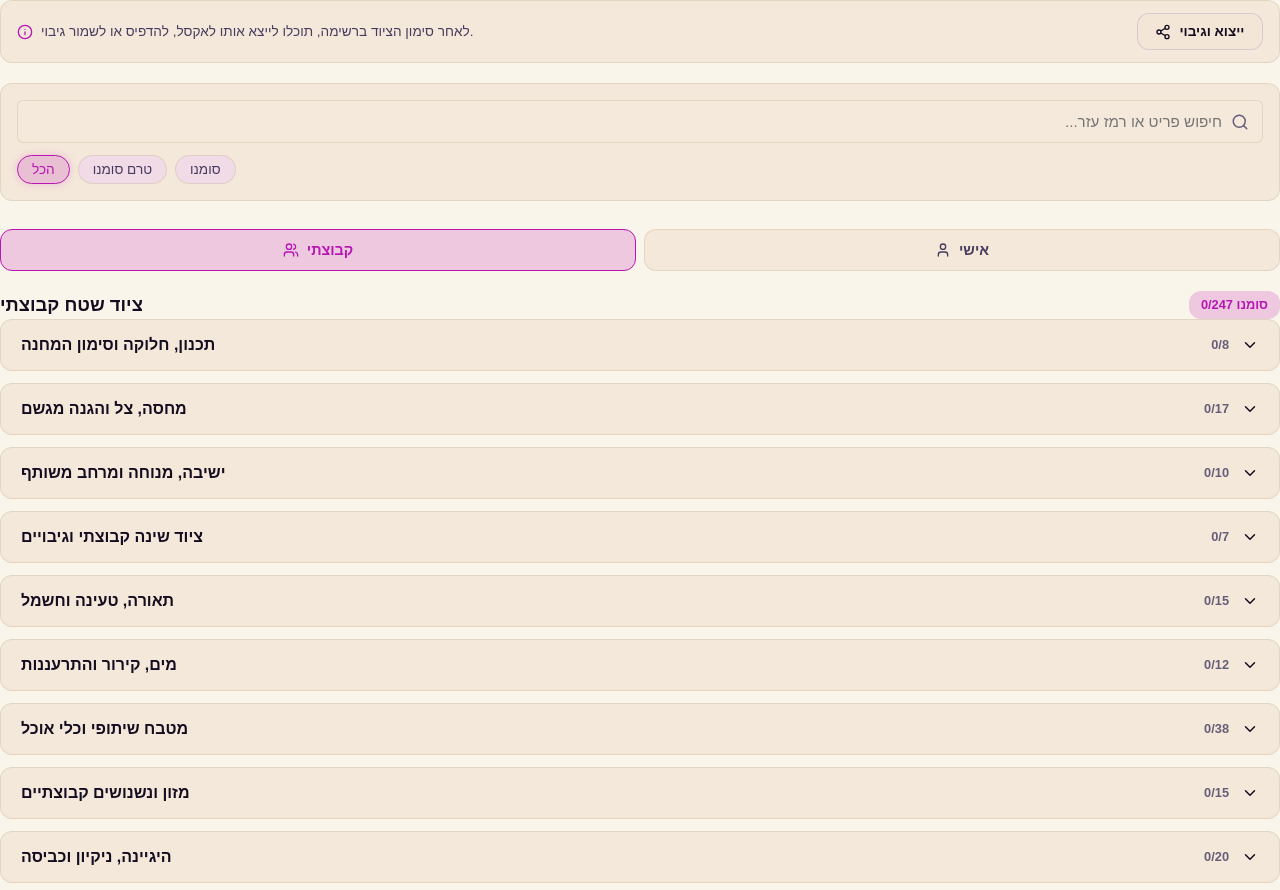
Test: EquipmentChecklist › displays all items of a topic if the topic heading matches the search query
Step 1. Type "מחסה" into the field with placeholder "חיפוש פריט או רמז עזר..." → (640, 122), box top-left (17, 100), bottom-right (1263, 143)
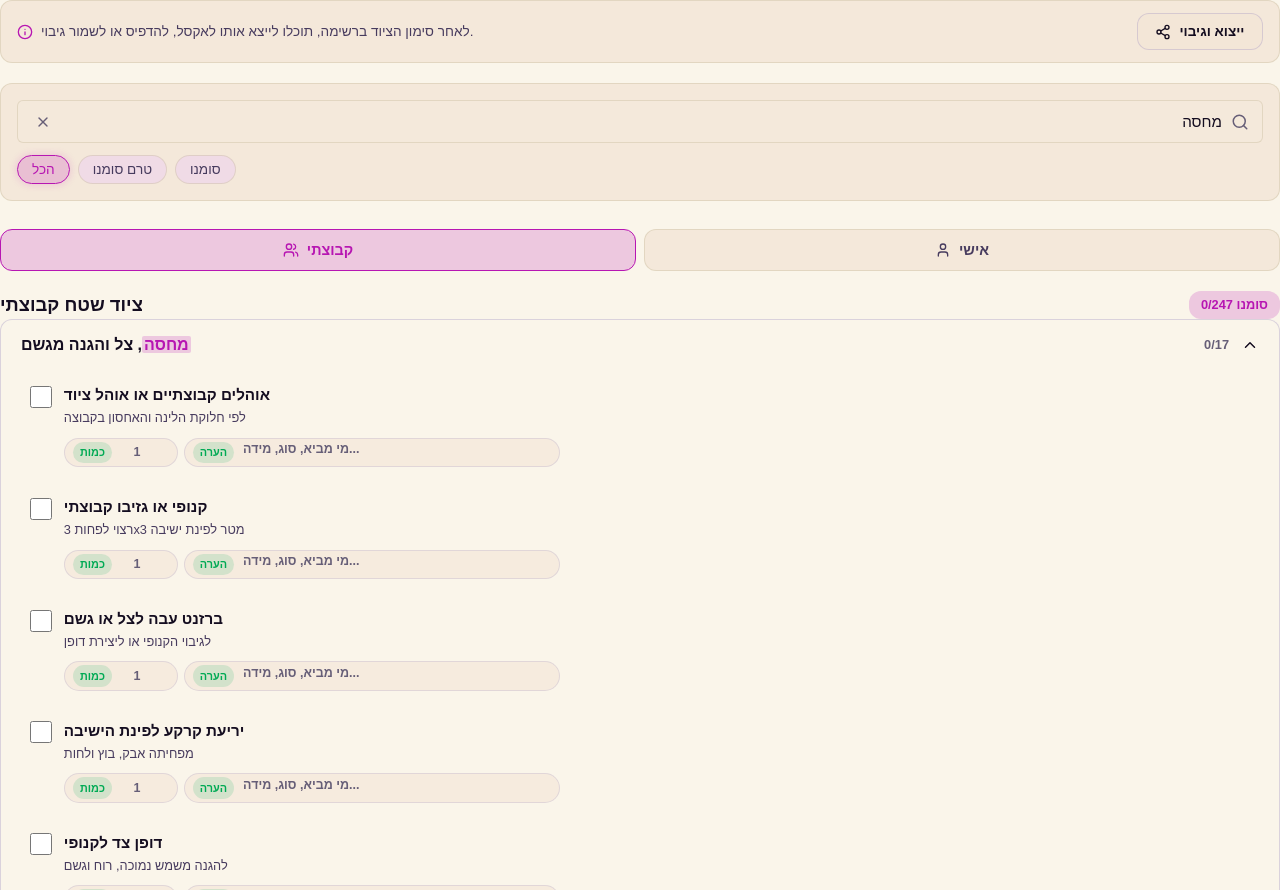
Result: the text "אוהלים קבוצתיים או אוהל ציוד" is shown at top-left (64, 386), bottom-right (270, 403)
Result: the text "קנופי או גזיבו קבוצתי" is shown at top-left (64, 498), bottom-right (207, 515)
